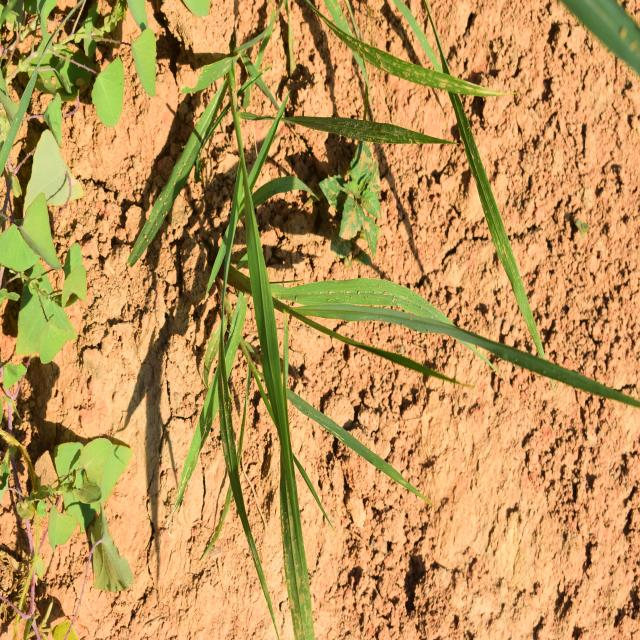green_foxtail: (183, 172, 434, 582)
